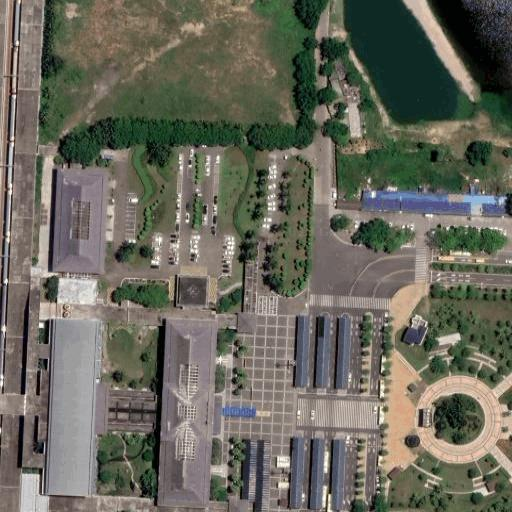building: (159, 319, 217, 505), (45, 315, 98, 494), (53, 165, 106, 270), (363, 188, 512, 206), (13, 88, 44, 153), (7, 216, 37, 282), (10, 152, 40, 218), (17, 23, 47, 89), (1, 336, 31, 395), (4, 281, 34, 337), (49, 274, 97, 307), (399, 199, 483, 216), (336, 317, 352, 388), (310, 438, 326, 509), (256, 439, 271, 512), (290, 437, 305, 509), (331, 439, 346, 511), (176, 275, 210, 306), (295, 315, 310, 385), (241, 439, 258, 500), (316, 317, 329, 387), (0, 393, 33, 417), (94, 382, 108, 434), (20, 0, 48, 25), (362, 197, 400, 211), (237, 313, 257, 334), (482, 204, 511, 218), (213, 393, 222, 434), (223, 407, 256, 417), (0, 22, 5, 88), (330, 79, 344, 100), (403, 327, 419, 344), (228, 499, 248, 512), (388, 467, 403, 482), (336, 201, 363, 209), (415, 325, 426, 343), (277, 455, 292, 467), (423, 408, 432, 428), (486, 479, 499, 492), (408, 435, 420, 447), (410, 322, 421, 332), (278, 481, 291, 489), (279, 497, 290, 506), (379, 406, 384, 424), (412, 314, 421, 324), (379, 380, 384, 397), (381, 355, 385, 373), (418, 319, 427, 327), (469, 187, 477, 195), (408, 384, 416, 392)
